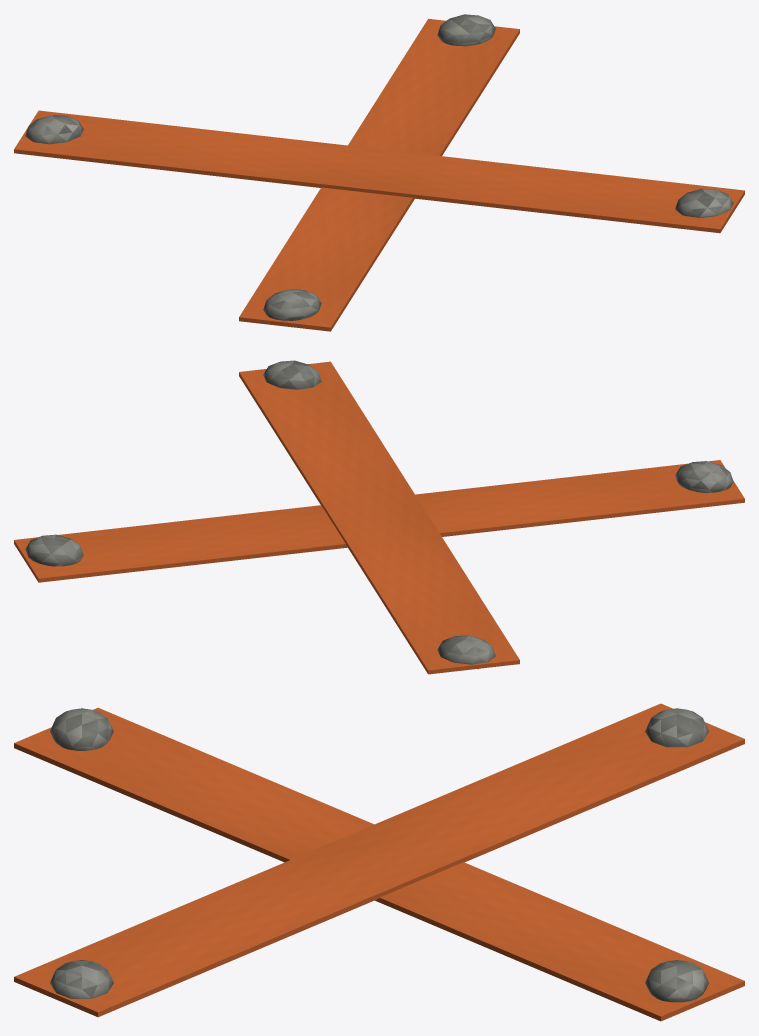
File: SM_LandingMarker.fbx
3 views of the same model, one above another, from view 1: azimuth 30°, elevation 25°; view 2: azimuth 150°, elevation 25°; view 3: azimuth 270°, elevation 25° (orthographic). The views are drawn at different scales.
Parts seen in each view (by area): view 1: SM_LandingMarker; view 2: SM_LandingMarker; view 3: SM_LandingMarker.
Part boxes in pixels (box(x1,y1,x2,y2)): SM_LandingMarker: box(14, 14, 744, 331); SM_LandingMarker: box(14, 360, 744, 674); SM_LandingMarker: box(14, 703, 744, 1021).
Size of the model in its own units: 7.99 by 0.33 by 7.99.
Materials: 1 (1 with a texture image).
